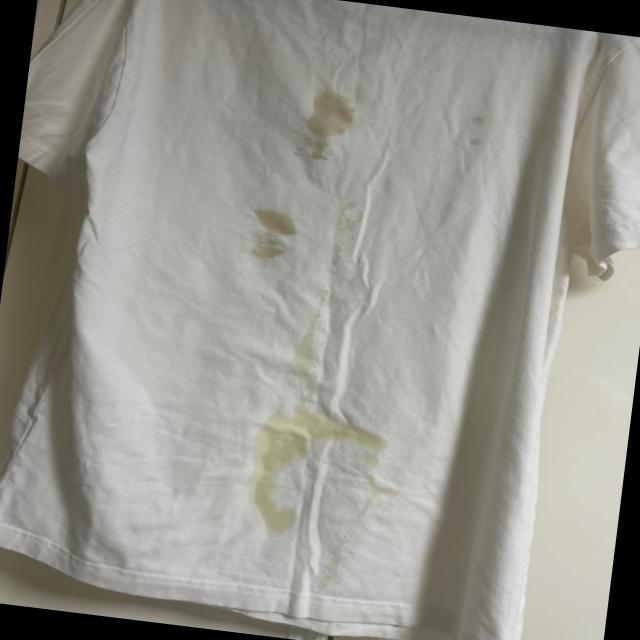stain: (256, 394, 382, 472), (285, 260, 354, 377), (243, 454, 314, 546), (295, 84, 360, 170), (241, 190, 309, 260), (327, 462, 399, 492), (332, 193, 373, 238), (469, 105, 494, 152)
